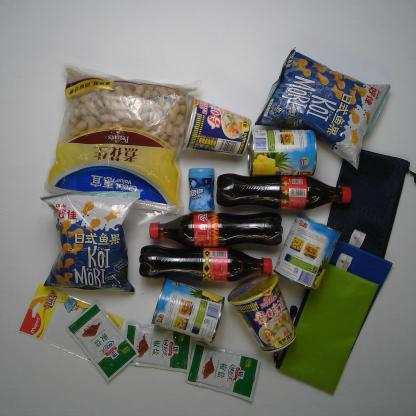Canned Food: (270, 212, 344, 294), (148, 276, 227, 346), (244, 126, 320, 181)
Dried Food: (38, 57, 205, 240)
Drink: (213, 168, 354, 212), (137, 242, 275, 284), (146, 210, 285, 250)
Gum: (185, 166, 217, 215)
Instant Noodles: (226, 268, 298, 356), (179, 96, 254, 157)
Puffed Food: (252, 43, 393, 173), (40, 191, 140, 293)
Seasoner: (63, 297, 142, 384), (183, 337, 263, 405), (119, 318, 195, 374)
Stationery: (272, 251, 379, 399), (324, 145, 416, 261), (17, 280, 129, 370), (316, 233, 394, 357)
